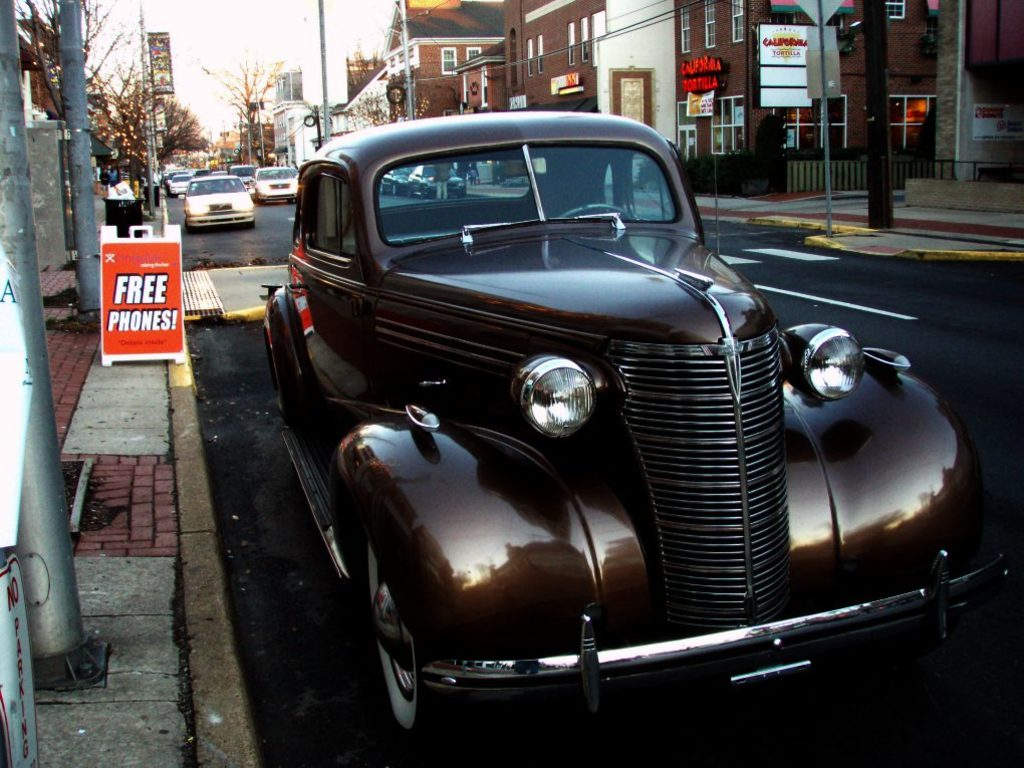car: (232, 96, 1013, 746), (256, 110, 1013, 734), (183, 174, 256, 232), (251, 166, 299, 205), (164, 171, 195, 198), (230, 164, 258, 188)
